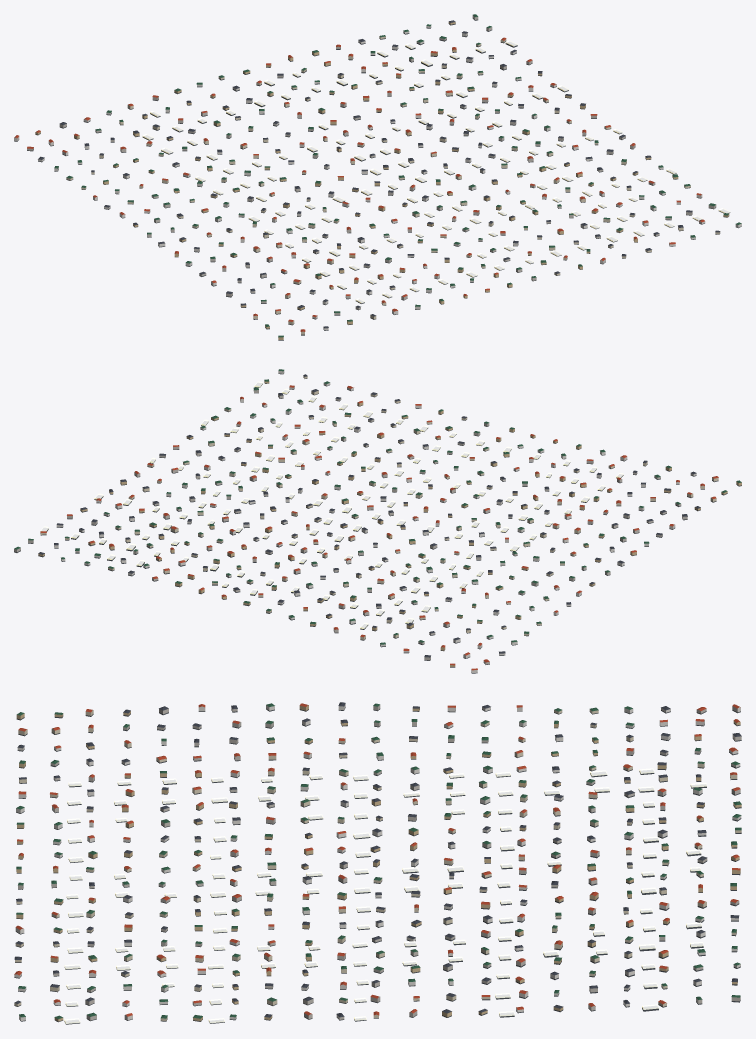
The model's file is buildings_T_E01_S01.glb.
3 views of the same model, one above another, from view 1: azimuth 30°, elevation 25°; view 2: azimuth 150°, elevation 25°; view 3: azimuth 270°, elevation 25° (orthographic). The views are drawn at different scales.
Parts seen in each view (by area): view 1: T_E01_S01_slope_seating_foundations, T_E01_S01_roofs_agri_greenhouse_arch, T_E01_S01_walls_wall_modern_warm_white, T_E01_S01_walls_wall_french_ochre_villa, T_E01_S01_roofs_roof_slate_French_villa_hip, T_E01_S01_roofs_roof_pine_green_hip, T_E01_S01_walls_wall_dalat_cream_stucco, T_E01_S01_roofs_roof_terracotta_gable, T_E01_S01_walls_wall_pastel_sand_gray; view 2: T_E01_S01_slope_seating_foundations, T_E01_S01_roofs_agri_greenhouse_arch, T_E01_S01_walls_wall_french_ochre_villa, T_E01_S01_walls_wall_modern_warm_white, T_E01_S01_roofs_roof_slate_French_villa_hip, T_E01_S01_roofs_roof_pine_green_hip, T_E01_S01_walls_wall_dalat_cream_stucco, T_E01_S01_roofs_roof_terracotta_gable, T_E01_S01_walls_wall_pastel_sand_gray; view 3: T_E01_S01_slope_seating_foundations, T_E01_S01_roofs_agri_greenhouse_arch, T_E01_S01_walls_wall_modern_warm_white, T_E01_S01_roofs_roof_slate_French_villa_hip, T_E01_S01_roofs_roof_pine_green_hip, T_E01_S01_walls_wall_french_ochre_villa, T_E01_S01_walls_wall_dalat_cream_stucco, T_E01_S01_roofs_roof_terracotta_gable, T_E01_S01_walls_wall_pastel_sand_gray.
Part boxes in pixels (x1,y1,x2,y2): T_E01_S01_slope_seating_foundations: [14, 18, 741, 340]; T_E01_S01_roofs_agri_greenhouse_arch: [142, 40, 730, 303]; T_E01_S01_walls_wall_modern_warm_white: [14, 25, 741, 330]; T_E01_S01_walls_wall_french_ochre_villa: [35, 22, 729, 339]; T_E01_S01_roofs_roof_slate_French_villa_hip: [38, 20, 720, 328]; T_E01_S01_roofs_roof_pine_green_hip: [54, 14, 741, 337]; T_E01_S01_walls_wall_dalat_cream_stucco: [66, 36, 720, 334]; T_E01_S01_roofs_roof_terracotta_gable: [14, 37, 704, 331]; T_E01_S01_walls_wall_pastel_sand_gray: [27, 15, 716, 314]; T_E01_S01_slope_seating_foundations: [14, 373, 741, 673]; T_E01_S01_roofs_agri_greenhouse_arch: [40, 381, 623, 628]; T_E01_S01_walls_wall_french_ochre_villa: [38, 381, 741, 666]; T_E01_S01_walls_wall_modern_warm_white: [54, 370, 696, 672]; T_E01_S01_roofs_roof_slate_French_villa_hip: [38, 374, 700, 657]; T_E01_S01_roofs_roof_pine_green_hip: [14, 369, 741, 644]; T_E01_S01_walls_wall_dalat_cream_stucco: [40, 376, 718, 639]; T_E01_S01_roofs_roof_terracotta_gable: [40, 385, 718, 670]; T_E01_S01_walls_wall_pastel_sand_gray: [14, 389, 687, 664]; T_E01_S01_slope_seating_foundations: [14, 707, 741, 1024]; T_E01_S01_roofs_agri_greenhouse_arch: [64, 768, 706, 1023]; T_E01_S01_walls_wall_modern_warm_white: [14, 704, 741, 1020]; T_E01_S01_roofs_roof_slate_French_villa_hip: [14, 702, 741, 1017]; T_E01_S01_roofs_roof_pine_green_hip: [16, 703, 741, 1019]; T_E01_S01_walls_wall_french_ochre_villa: [16, 705, 741, 1021]; T_E01_S01_walls_wall_dalat_cream_stucco: [14, 709, 741, 1020]; T_E01_S01_roofs_roof_terracotta_gable: [14, 703, 740, 1016]; T_E01_S01_walls_wall_pastel_sand_gray: [18, 705, 741, 1020].
Bounding box in the file's own units: 1770 × 93.13 × 1750.
